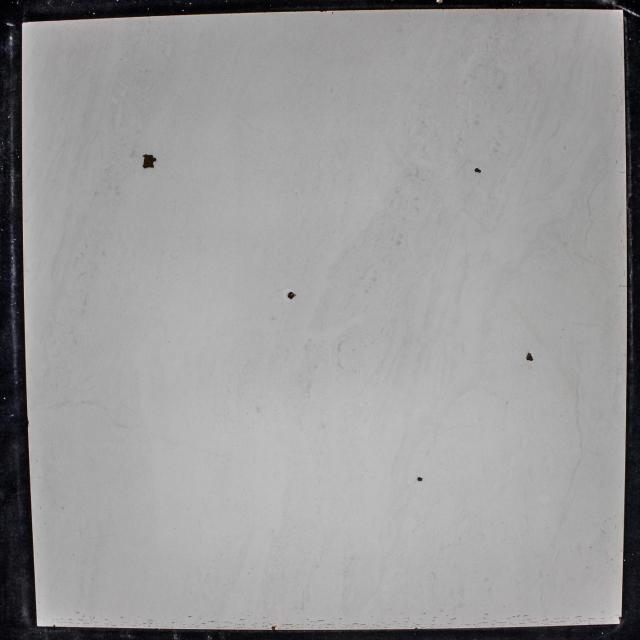edge-chipping: (270, 626, 278, 632), (618, 616, 623, 625)
hole: (140, 152, 158, 171), (285, 291, 298, 300), (526, 352, 534, 362), (474, 167, 482, 174), (416, 476, 424, 482)
